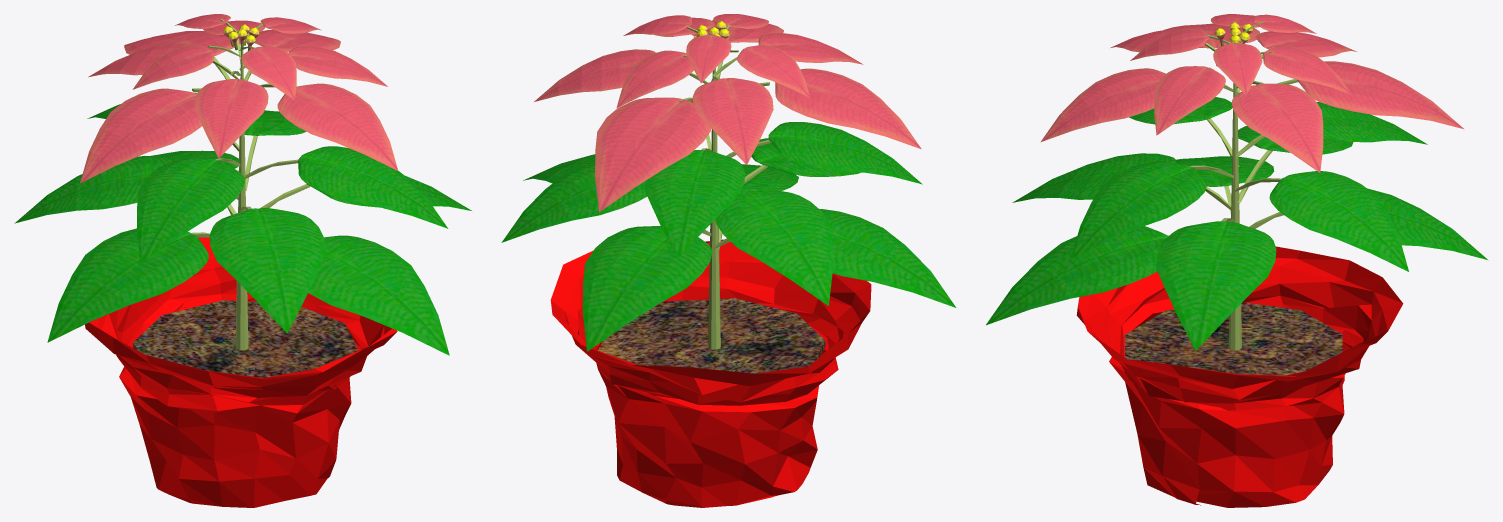
Rendered from MGA4234S.glb.
3 views of the same model, side by side, from view 1: azimuth 30°, elevation 25°; view 2: azimuth 150°, elevation 25°; view 3: azimuth 270°, elevation 25° (orthographic).
Visible parts, largest first — view 1: Line03-ROOT, Dirt-ROOT, Petal18-ROOT, Petal22-ROOT, Petal21-ROOT, Petal14-ROOT, Petal02-ROOT, Petal15-ROOT, Petal03-ROOT, Petal17-ROOT, Petal06-ROOT, Stem-ROOT (+11 smaller); view 2: Line03-ROOT, Dirt-ROOT, Petal20-ROOT, Petal17-ROOT, Petal01-ROOT, Petal13-ROOT, Petal21-ROOT, Petal02-ROOT, Petal14-ROOT, Petal05-ROOT, Petal16-ROOT, Petal04-ROOT (+11 smaller); view 3: Line03-ROOT, Dirt-ROOT, Petal19-ROOT, Petal22-ROOT, Petal16-ROOT, Petal15-ROOT, Petal04-ROOT, Petal01-ROOT, Petal03-ROOT, Stem-ROOT, Petal07-ROOT, Petal18-ROOT (+12 smaller).
Boxes of the visible parts, x1,y1,x2,y2 form: Line03-ROOT: (85,237,397,507); Dirt-ROOT: (133,300,358,377); Petal18-ROOT: (209,208,325,333); Petal22-ROOT: (308,235,449,355); Petal21-ROOT: (47,228,208,342); Petal14-ROOT: (137,158,244,263); Petal02-ROOT: (80,88,201,183); Petal15-ROOT: (298,146,448,228); Petal03-ROOT: (277,83,398,170); Petal17-ROOT: (14,156,172,223); Petal06-ROOT: (194,79,268,158); Stem-ROOT: (191,18,309,350); Line03-ROOT: (550,239,871,507); Dirt-ROOT: (598,298,825,373); Petal20-ROOT: (582,226,712,351); Petal17-ROOT: (715,190,832,305); Petal01-ROOT: (595,97,711,212); Petal13-ROOT: (644,150,745,258); Petal21-ROOT: (819,209,956,307); Petal02-ROOT: (775,68,921,149); Petal14-ROOT: (768,122,922,184); Petal05-ROOT: (692,78,773,164); Petal16-ROOT: (501,162,647,242); Petal04-ROOT: (534,49,655,101); Line03-ROOT: (1076,246,1403,507); Dirt-ROOT: (1125,302,1342,375); Petal19-ROOT: (1156,221,1276,350); Petal22-ROOT: (986,226,1167,325); Petal16-ROOT: (1269,171,1408,271); Petal15-ROOT: (1071,161,1206,258); Petal04-ROOT: (1232,83,1323,172); Petal01-ROOT: (1297,61,1464,129); Petal03-ROOT: (1040,68,1165,142); Stem-ROOT: (1167,21,1297,350); Petal07-ROOT: (1154,66,1225,135); Petal18-ROOT: (1012,153,1176,202).
Size of the model in its own units: 19.27 by 19.02 by 19.49.
Materials: 6 (4 with a texture image).
